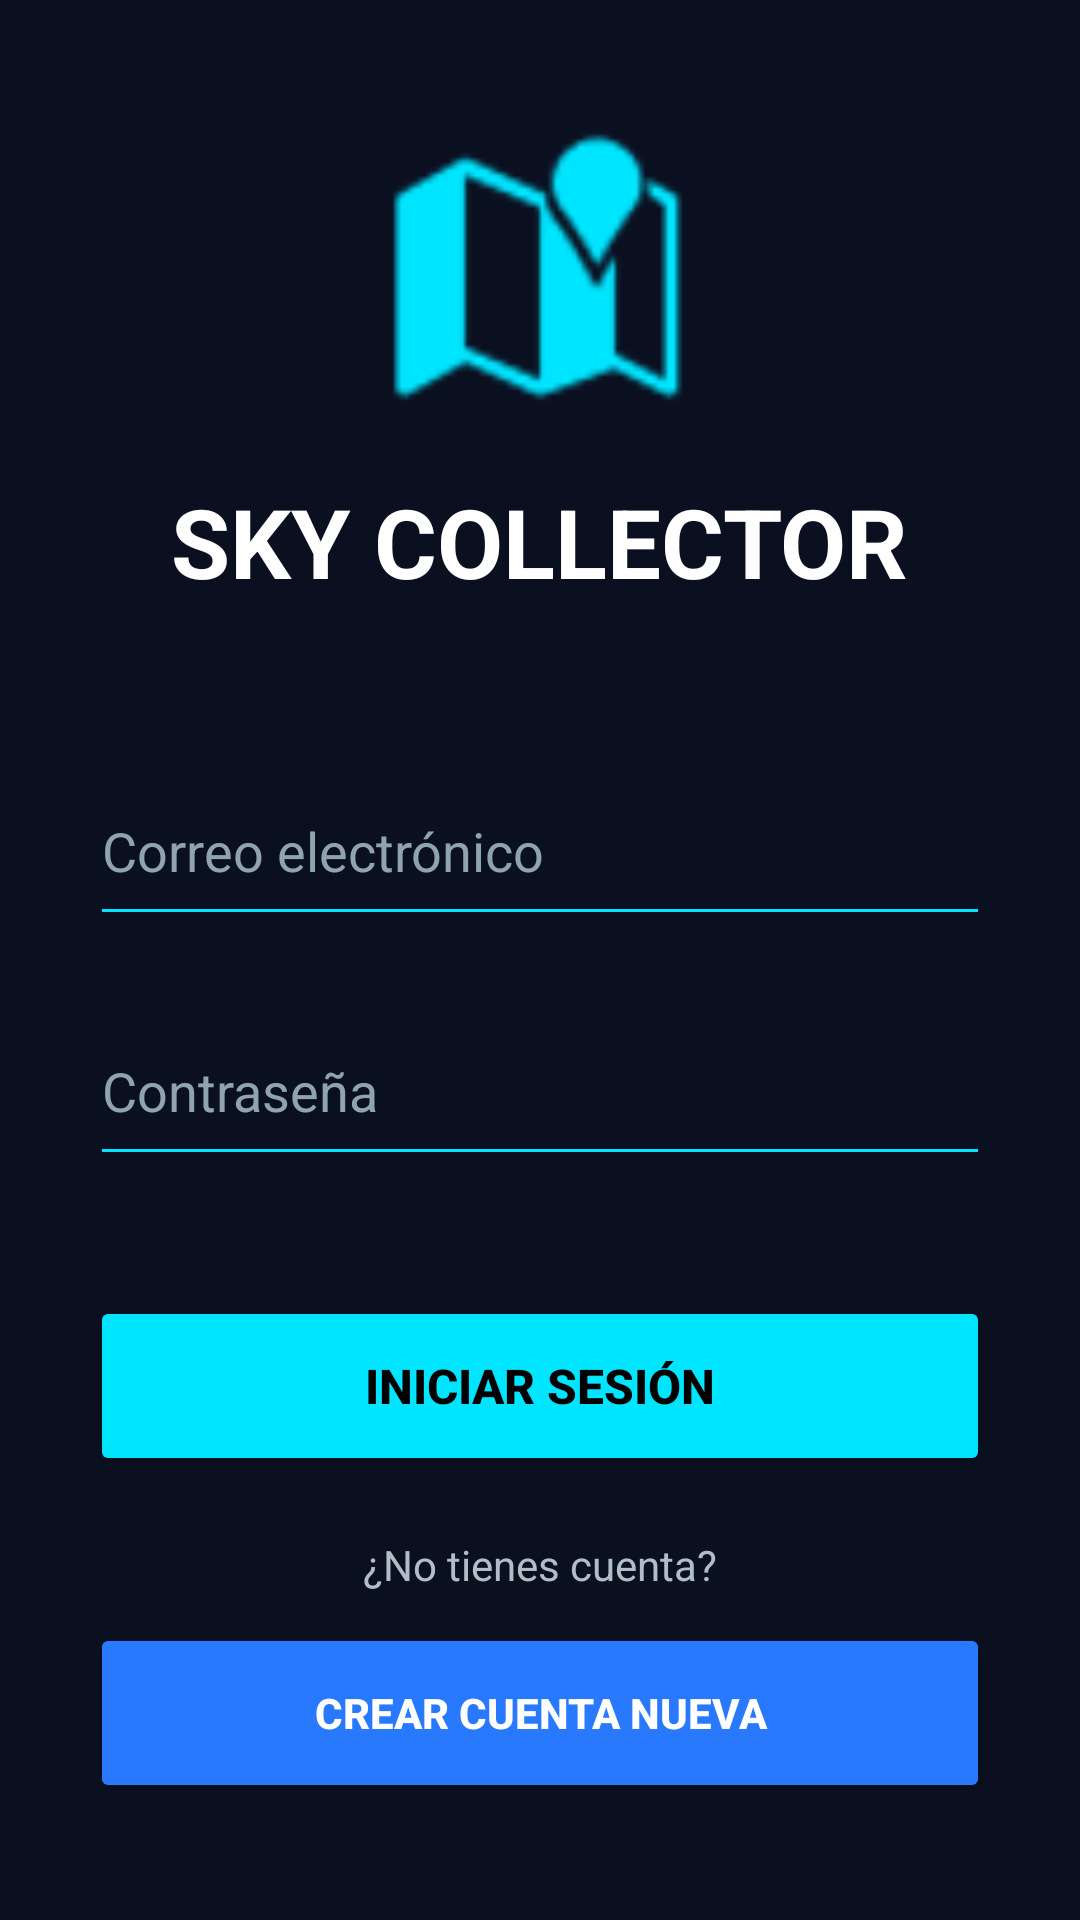

Icon click points for this 1080×1920 phone screenshot, format (x,y):
map: (537,267)
